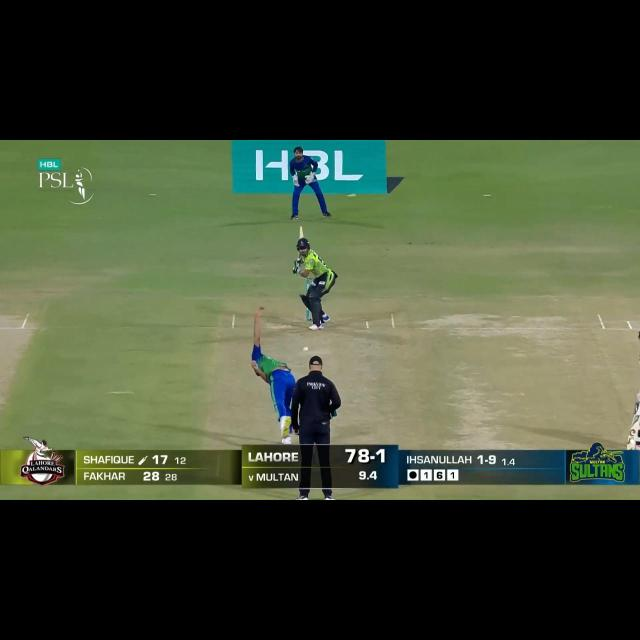bat: (628, 407, 640, 451), (295, 225, 305, 246)
toe: (625, 439, 636, 450), (296, 225, 305, 233)
